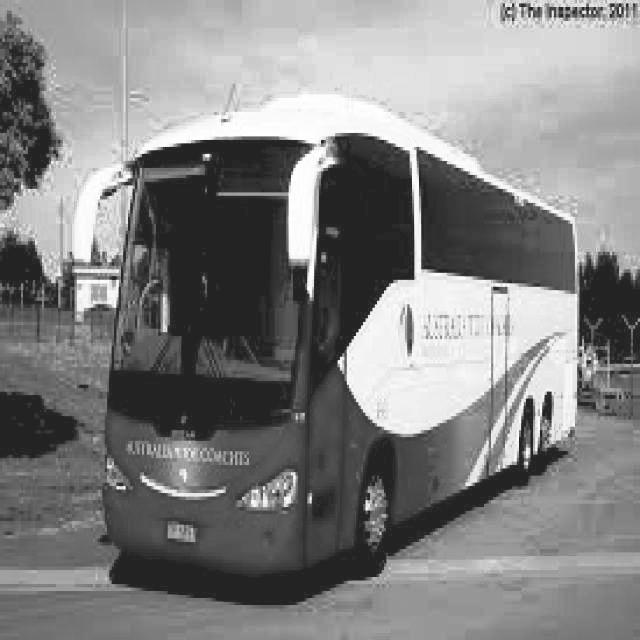Bus: (50, 81, 593, 597)
